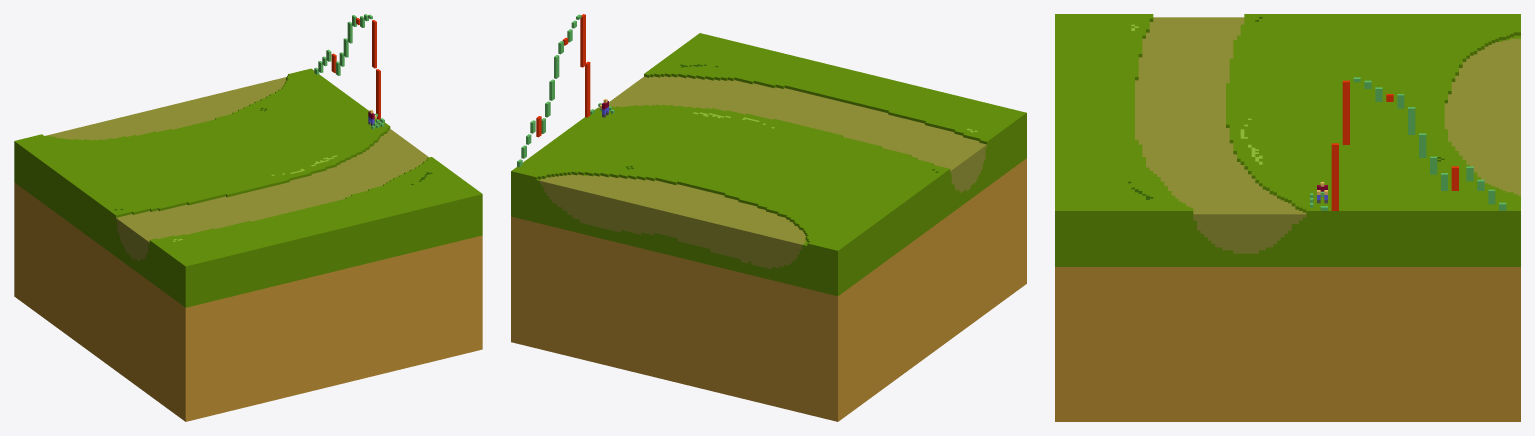
3 renders of one model, left to right at view 1: azimuth 30°, elevation 25°; view 2: azimuth 150°, elevation 25°; view 3: azimuth 270°, elevation 25°, orthographic. The views are drawn at different scales.
Parts seen in each view (by area): view 1: 8G; view 2: 8G; view 3: 8G.
Boxes of the visible parts, <box> form: 8G: <box>14,14,482,421</box>; 8G: <box>511,14,1026,421</box>; 8G: <box>1055,14,1520,421</box>.
Bounding box in the file's own units: 12.8 × 10.4 × 12.8.
Materials: 1 (1 with a texture image).
